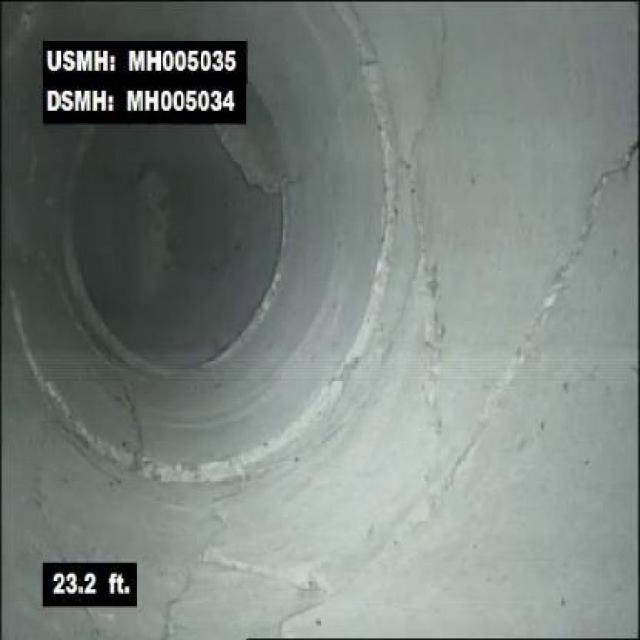Crack: (488, 139, 637, 403), (397, 162, 461, 463), (397, 1, 463, 154), (194, 543, 334, 594), (269, 594, 337, 632), (157, 578, 191, 634)
Joint offset: (297, 232, 400, 426), (76, 425, 282, 483)
